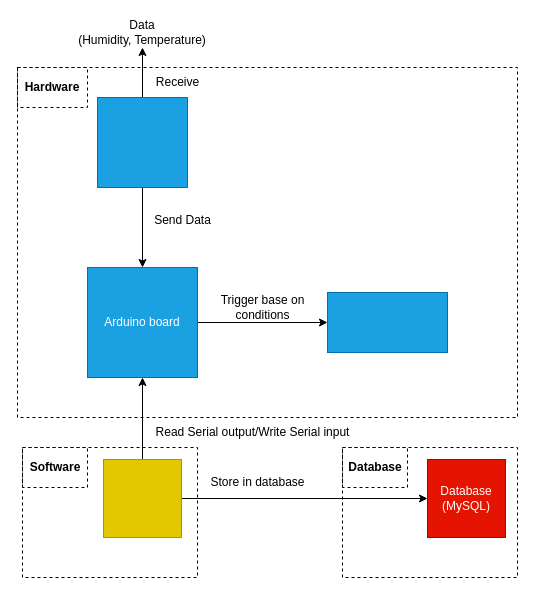
Some shapes in this 535 by 595 pixel diagram are drawn without their labels. The shapes that lost their labels are listed below. From the top down, each one's centre as x and y in pixels, then its label:
(142,142): Digital Sensor (DHT11)
(387,322): Actuator (LEDs, Fan motor)
(142,498): Web (Python)
